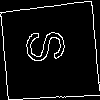S: (24, 26, 74, 65)
